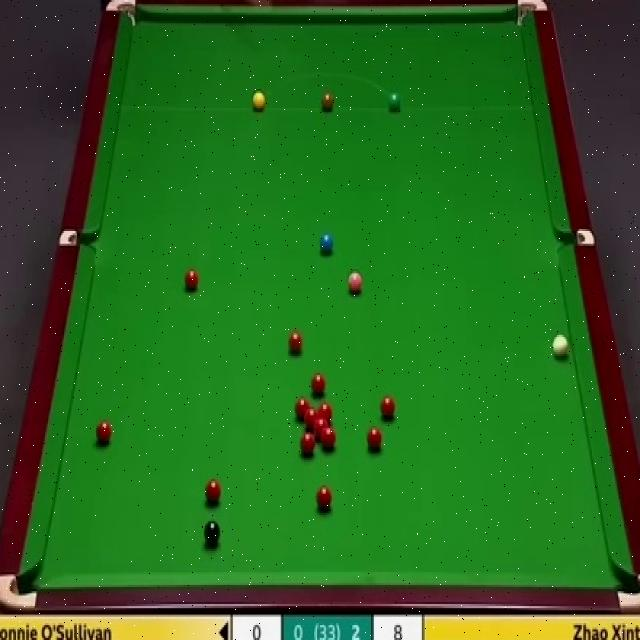black-ball: (204, 521, 221, 550)
blue-ball: (319, 230, 334, 256)
brown-ball: (321, 89, 334, 112)
green-ball: (387, 93, 401, 114)
pink-ball: (348, 270, 363, 294)
red-ball: (378, 393, 397, 422), (365, 426, 384, 454), (287, 329, 304, 357), (96, 418, 112, 446), (316, 484, 332, 512), (205, 479, 222, 504), (310, 372, 326, 398), (300, 431, 314, 458), (294, 397, 309, 421), (322, 426, 336, 451), (184, 268, 199, 290), (304, 408, 318, 428), (314, 418, 328, 438), (319, 402, 332, 423)
white-ball: (551, 330, 572, 363)
yellow-ball: (252, 92, 265, 113)
